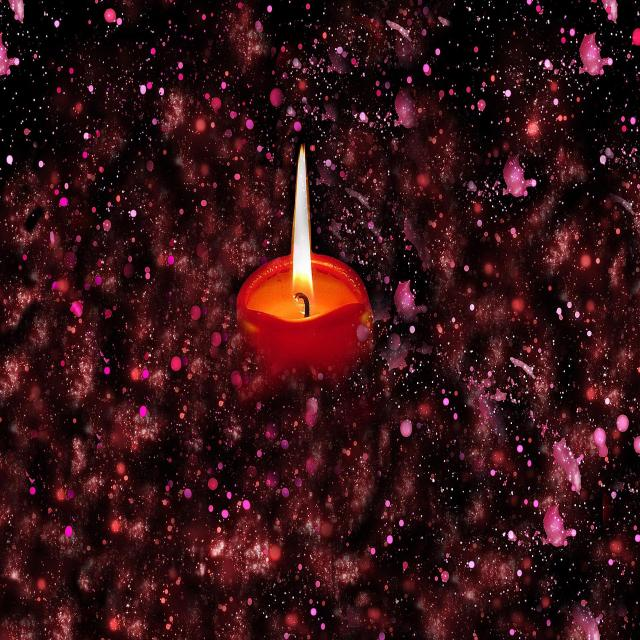Fire_Save: (1, 1, 638, 638), (235, 142, 374, 383)
